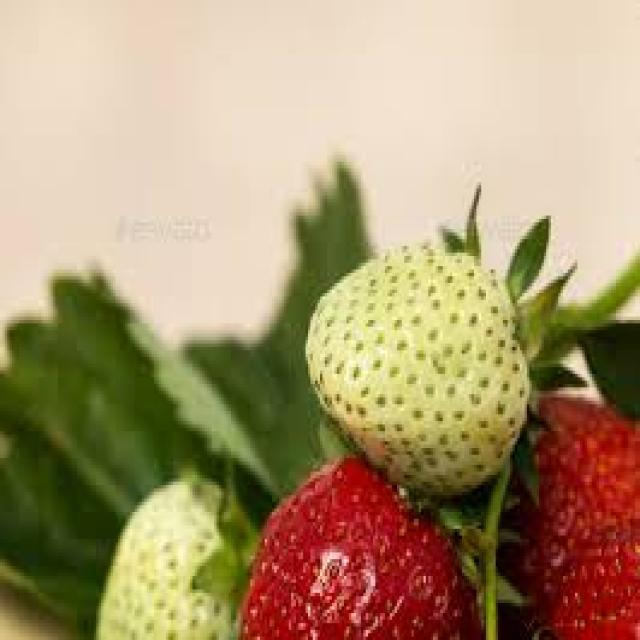Healthy Fruit: (306, 239, 532, 494), (236, 459, 490, 640), (94, 474, 251, 640)
